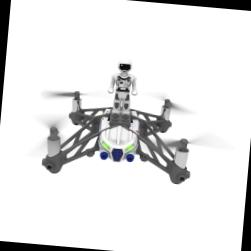drone: (15, 74, 226, 187)
